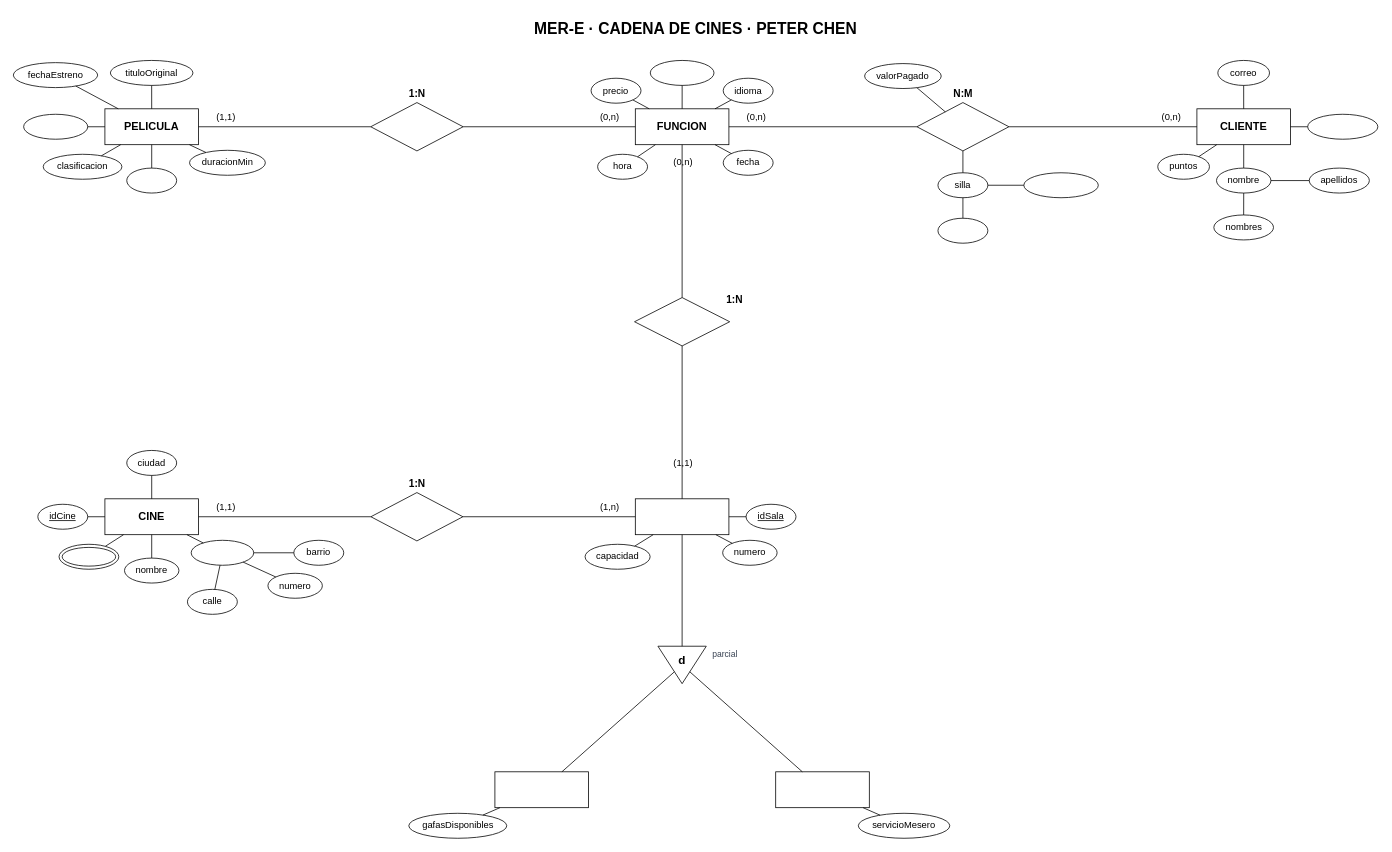
Image size: 1392x852. Some labels were removed from this diagram. The box of each missing label's shape, as (x1, y1, x2, y2) in pixels:
comprar: (916, 102, 1009, 151)
direccion: (190, 540, 254, 565)
documento: (1307, 113, 1378, 139)
fila: (937, 217, 988, 243)
idFuncion: (650, 60, 714, 85)
idPelicula: (23, 113, 88, 139)
numeroSilla: (1023, 172, 1098, 198)
programar: (634, 297, 730, 346)
proyectar: (370, 102, 463, 151)
SALA: (635, 498, 729, 535)
SALA_3D: (494, 771, 589, 808)
SALA_VIP: (775, 771, 869, 808)
telefono: (58, 544, 119, 569)
tener: (370, 492, 463, 541)
titulo: (126, 167, 177, 193)
